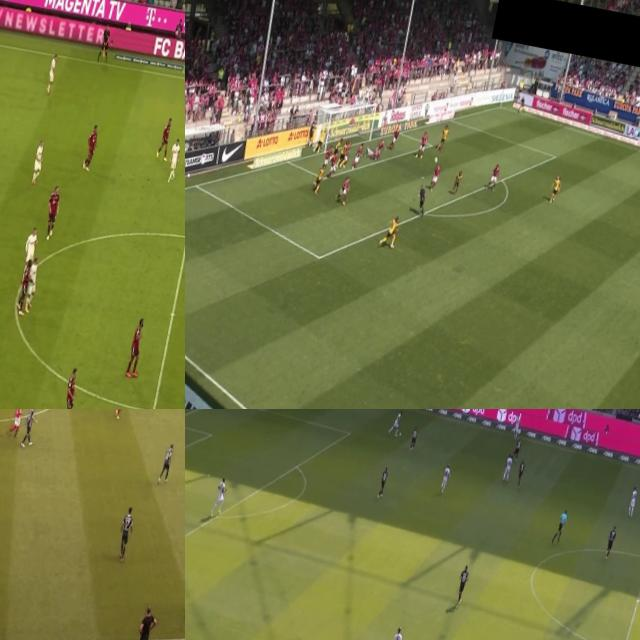ball: (396, 426, 404, 439), (432, 154, 439, 164)
player: (124, 316, 150, 384), (20, 256, 42, 318), (56, 364, 84, 409), (42, 182, 64, 238), (81, 120, 103, 174), (15, 253, 34, 309), (116, 503, 135, 558), (209, 472, 231, 518), (30, 135, 49, 184), (156, 114, 174, 161), (22, 227, 38, 274), (165, 138, 182, 182), (21, 409, 40, 448), (160, 437, 176, 482), (604, 521, 620, 562), (385, 210, 402, 248), (455, 564, 472, 602), (624, 482, 640, 522), (44, 52, 59, 92), (336, 176, 354, 209), (310, 162, 326, 197), (548, 172, 564, 206), (377, 463, 392, 497), (389, 409, 403, 442), (384, 622, 409, 640), (428, 162, 442, 194), (438, 466, 452, 498), (316, 125, 330, 156), (372, 138, 388, 165), (10, 409, 25, 437), (502, 451, 514, 486), (328, 149, 340, 180), (409, 421, 421, 452), (340, 138, 352, 168), (416, 130, 428, 159), (512, 410, 524, 438), (322, 142, 333, 171), (452, 168, 463, 197), (338, 140, 349, 167), (353, 141, 364, 168), (390, 123, 401, 150), (362, 146, 380, 162), (490, 162, 500, 189), (332, 135, 341, 163), (513, 437, 523, 462), (516, 462, 526, 486), (439, 122, 448, 148), (115, 409, 126, 418)
